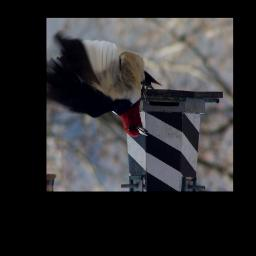Woodpecker: (47, 35, 159, 143)
